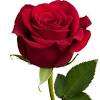rose: (11, 1, 98, 74)
